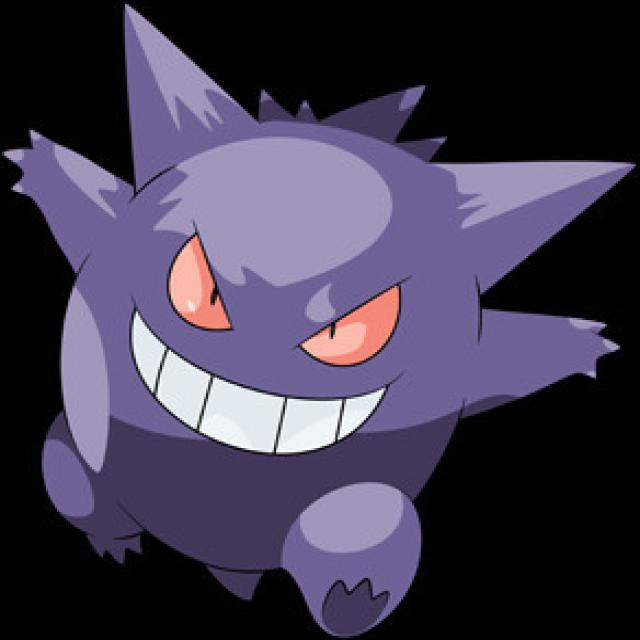Gengar: (7, 4, 631, 627)
